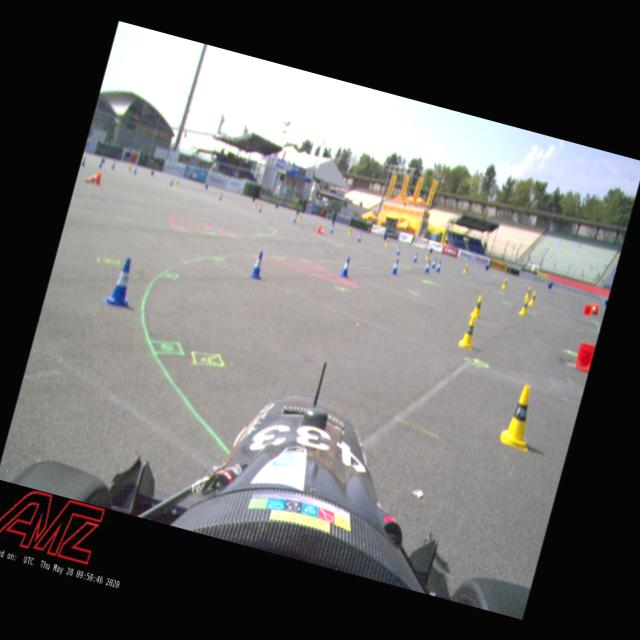blue_cone: (102, 254, 142, 310), (247, 250, 267, 280), (338, 256, 352, 278), (390, 258, 400, 276), (423, 258, 432, 274), (434, 258, 442, 272), (79, 154, 87, 168), (394, 245, 402, 256), (430, 257, 437, 269), (412, 252, 418, 262), (328, 224, 334, 234), (292, 214, 298, 224), (357, 232, 362, 242), (257, 204, 263, 212)
orange_cone: (572, 339, 595, 374), (84, 168, 102, 186), (588, 302, 600, 316), (316, 224, 328, 237), (582, 303, 592, 317)
yellow_cone: (497, 380, 545, 452), (457, 314, 480, 351), (470, 292, 486, 320), (518, 296, 530, 316), (527, 290, 538, 306), (524, 284, 532, 300), (500, 276, 508, 290), (462, 263, 469, 274), (424, 250, 430, 260), (347, 226, 353, 236), (384, 238, 390, 246), (298, 214, 303, 222)
